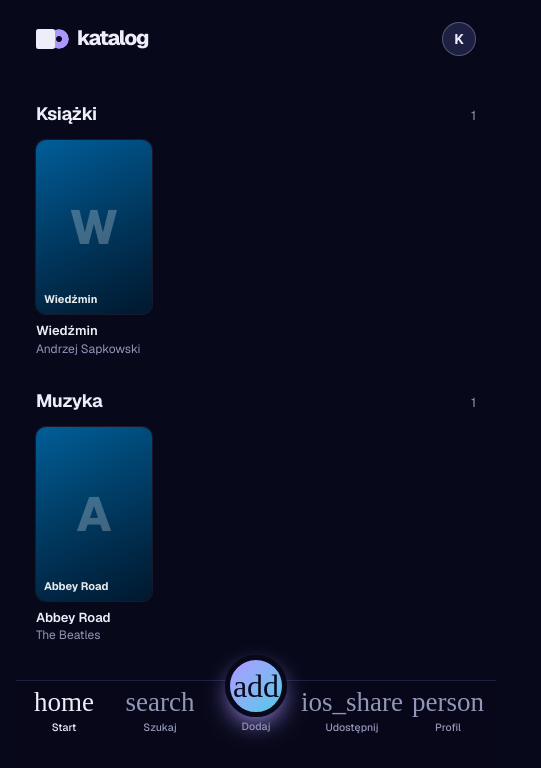
Test: Dashboard › language › changes the language from the profile menu and saves it in the profile
Expected: the element "Książki" is shown, 16,100 -> 496,360
Click the button "Profil": (448, 724) 400,689 -> 496,760
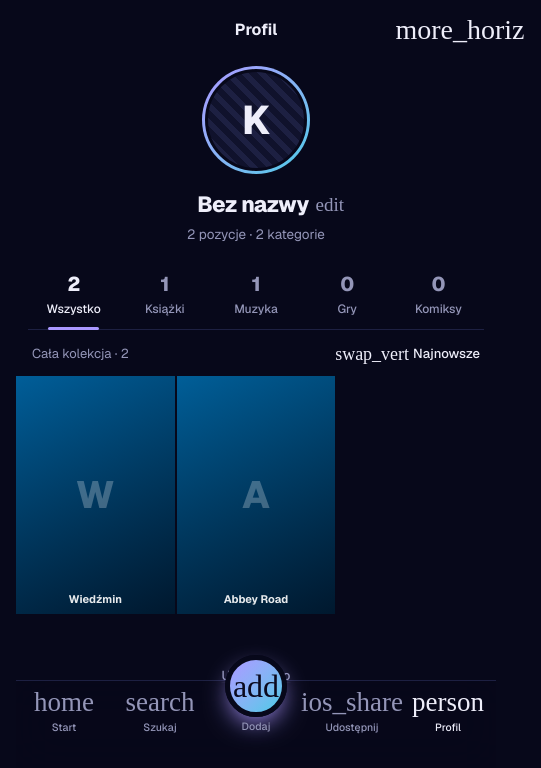
Click the button named "Więcej opcji": (460, 30) 438,8 -> 482,52
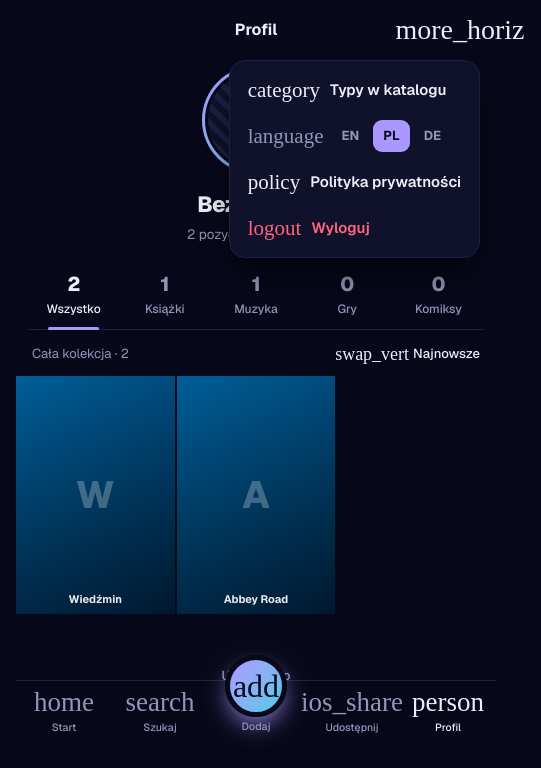
Click the menu item with aria-label "English": (350, 136) 332,120 -> 369,152
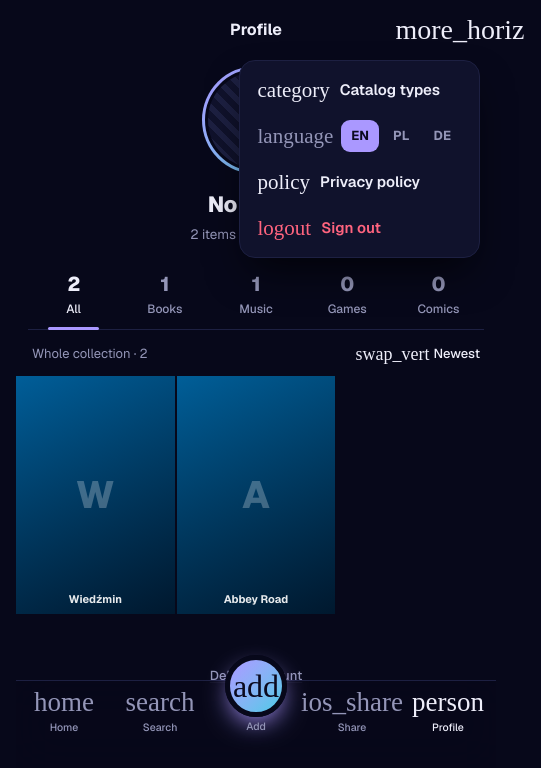
Expected: the heading "Profile" is shown, 230,18 -> 282,42
